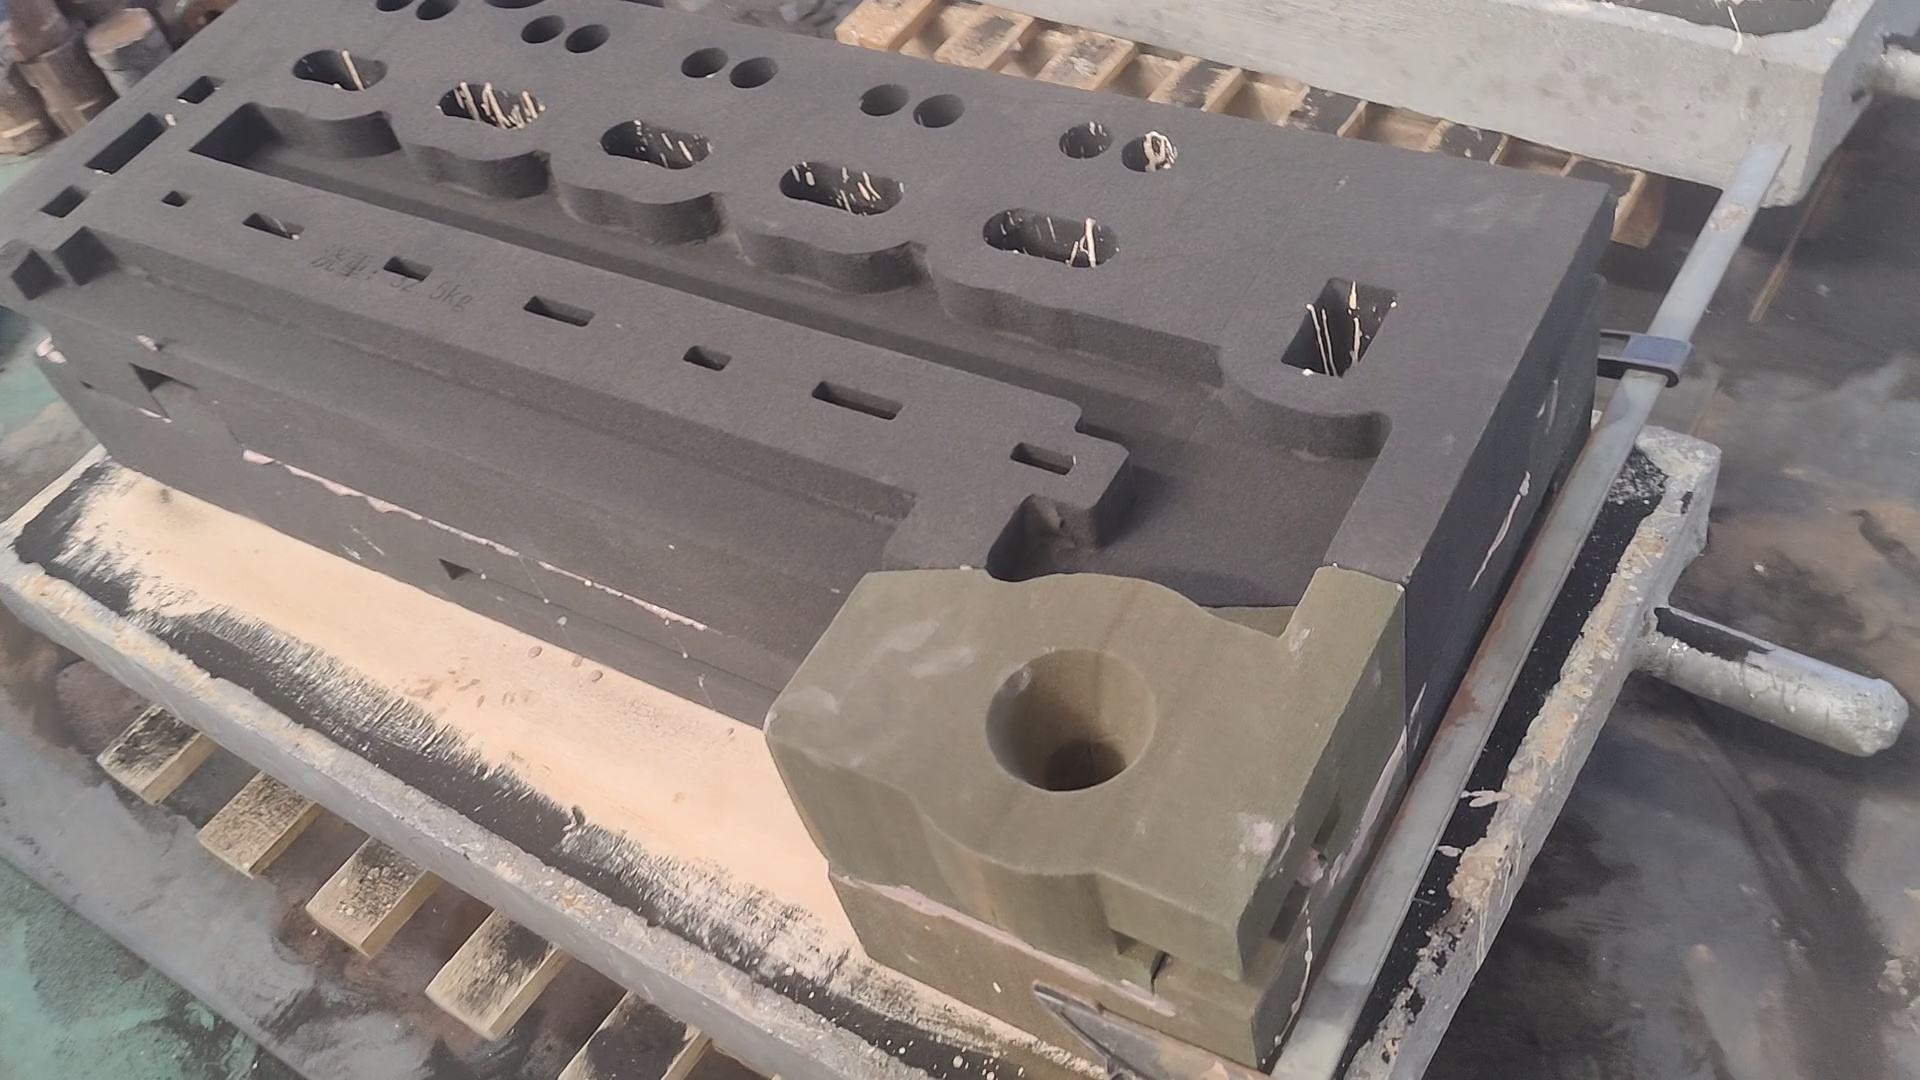pouring hole: (985, 645, 1156, 795)
